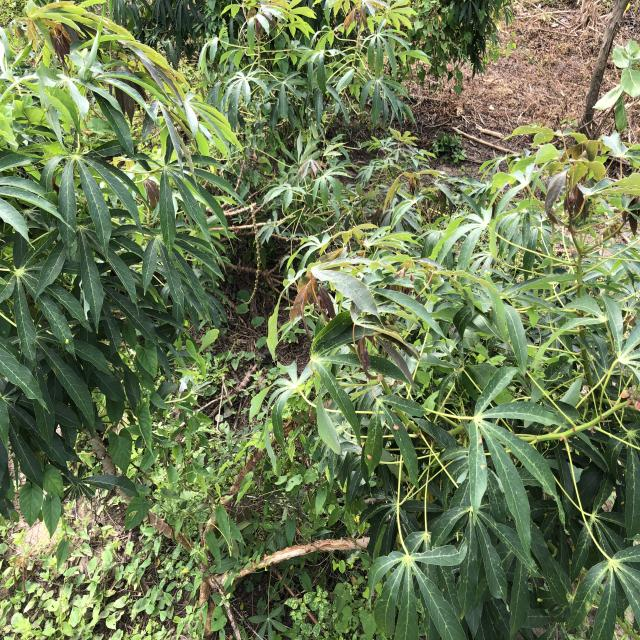Mosca: (384, 419, 405, 439), (58, 331, 72, 354), (359, 450, 373, 463)
